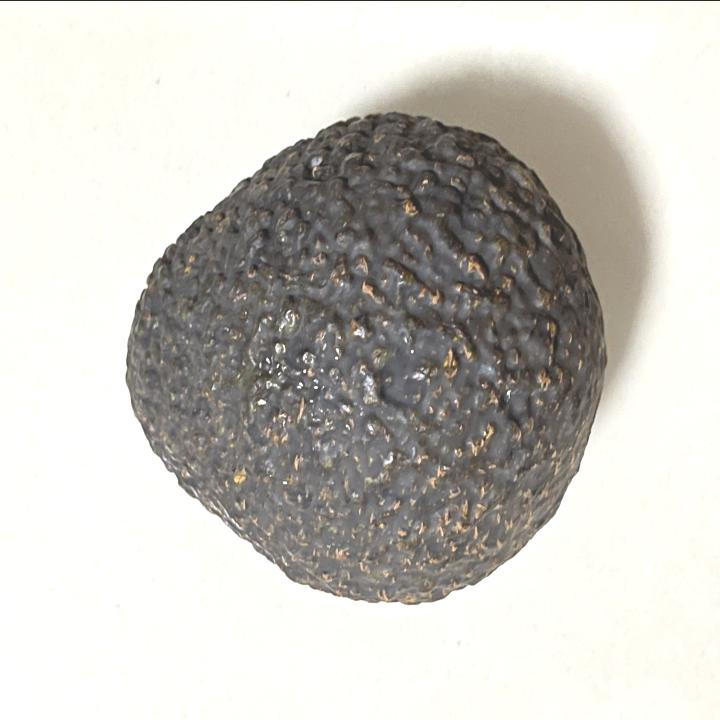Level2: (118, 102, 611, 610)
